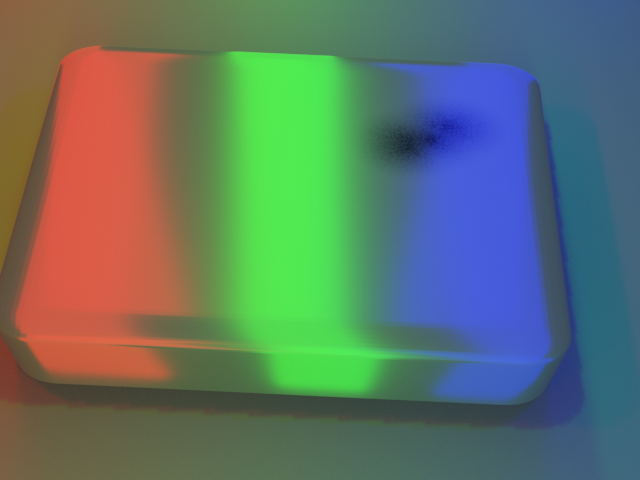stain: (325, 66, 563, 195)
